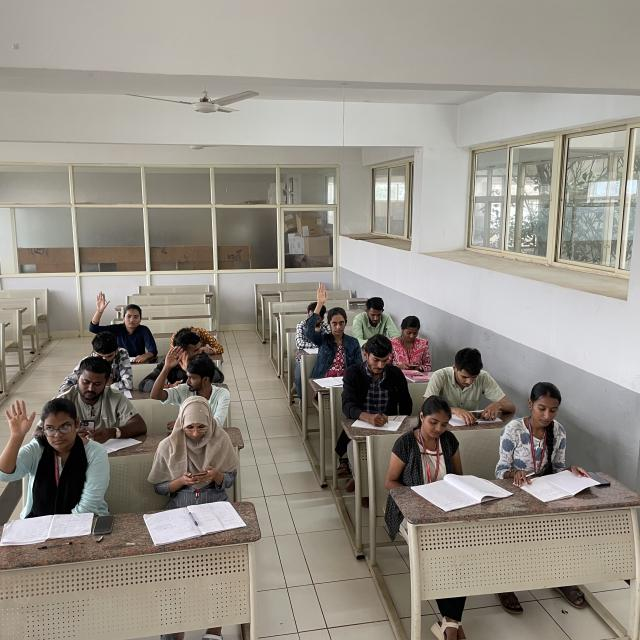Hand Rising: (0, 395, 101, 511), (149, 346, 227, 428), (302, 280, 362, 368), (86, 292, 155, 355)
Reading: (496, 374, 594, 493), (394, 403, 501, 511), (434, 344, 518, 422)
Sleeping: (178, 324, 228, 358)
Using Phone: (153, 390, 246, 496), (69, 354, 150, 437), (388, 314, 436, 370), (356, 292, 399, 335)
Writing: (344, 329, 412, 426)
